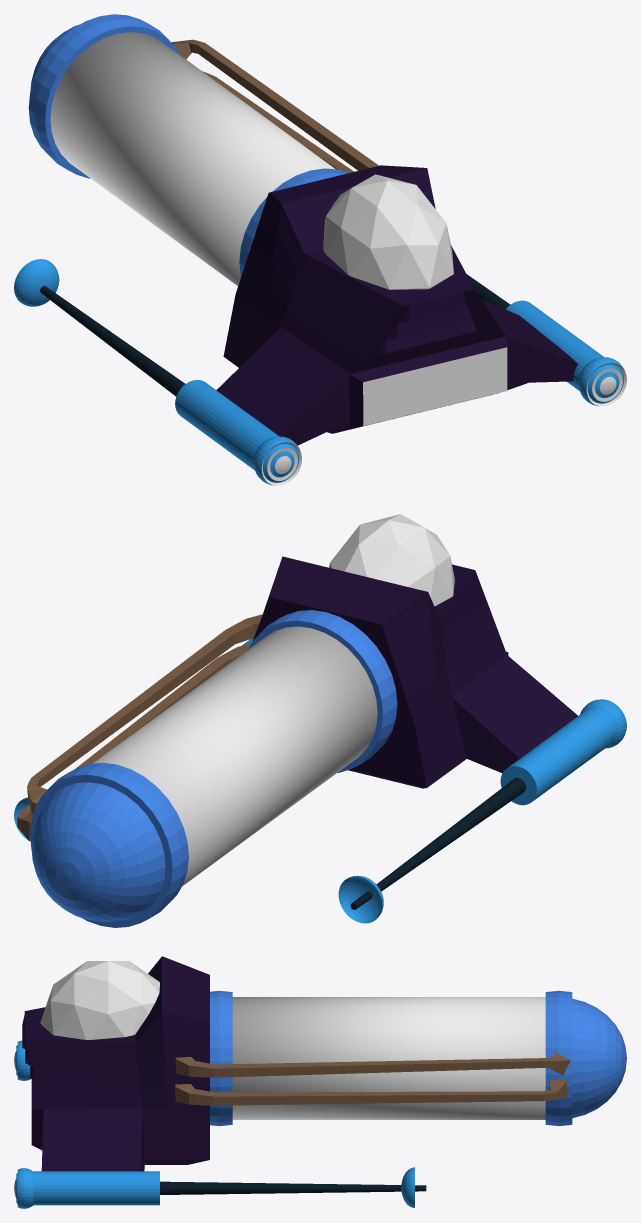
Rendered from sandy_v2.fbx.
3 views of the same model, one above another, from view 1: azimuth 30°, elevation 25°; view 2: azimuth 150°, elevation 25°; view 3: azimuth 270°, elevation 25° (orthographic). The views are drawn at different scales.
Parts seen in each view (by area): view 1: cabin, engine, Icosphere.001, end cap, wing, pipe.001, laser.001, wing.001, Sphere.003, Sphere, Sphere.002, diode (+1 smaller); view 2: engine, cabin, end cap, Icosphere.001, wing, pipe.001, diode, laser.001, pipe, Sphere.002, Sphere.003; view 3: engine, cabin, end cap, Icosphere.001, pipe, pipe.001, wing.001, laser, diode, Sphere, Sphere.003, Sphere.001.
Boxes of the visible parts, x1,y1,x2,y2 form: cabin: [216, 165, 577, 445]; engine: [50, 32, 335, 285]; Icosphere.001: [323, 174, 453, 289]; end cap: [28, 14, 180, 178]; wing: [175, 380, 278, 470]; pipe.001: [171, 39, 378, 170]; laser.001: [40, 286, 185, 396]; wing.001: [506, 300, 603, 390]; Sphere.003: [253, 436, 301, 485]; Sphere: [578, 357, 626, 406]; Sphere.002: [14, 259, 59, 306]; diode: [239, 168, 348, 276]; engine: [93, 626, 377, 885]; cabin: [253, 556, 577, 788]; end cap: [30, 762, 188, 927]; Icosphere.001: [329, 514, 454, 606]; wing: [500, 708, 615, 805]; pipe.001: [27, 614, 262, 813]; diode: [248, 610, 397, 772]; laser.001: [350, 778, 525, 909]; pipe: [17, 643, 250, 840]; Sphere.002: [338, 875, 383, 923]; Sphere.003: [580, 699, 626, 748]; engine: [232, 997, 545, 1119]; cabin: [22, 956, 209, 1171]; end cap: [545, 990, 626, 1126]; Icosphere.001: [40, 961, 159, 1039]; pipe: [175, 1079, 566, 1105]; pipe.001: [175, 1052, 570, 1077]; wing.001: [33, 1171, 159, 1205]; laser: [160, 1181, 426, 1194]; diode: [210, 990, 232, 1126]; Sphere: [14, 1168, 33, 1208]; Sphere.003: [14, 1040, 31, 1080]; Sphere.001: [401, 1167, 414, 1207].
Bounding box in the file's own units: 506 × 295 × 902.
